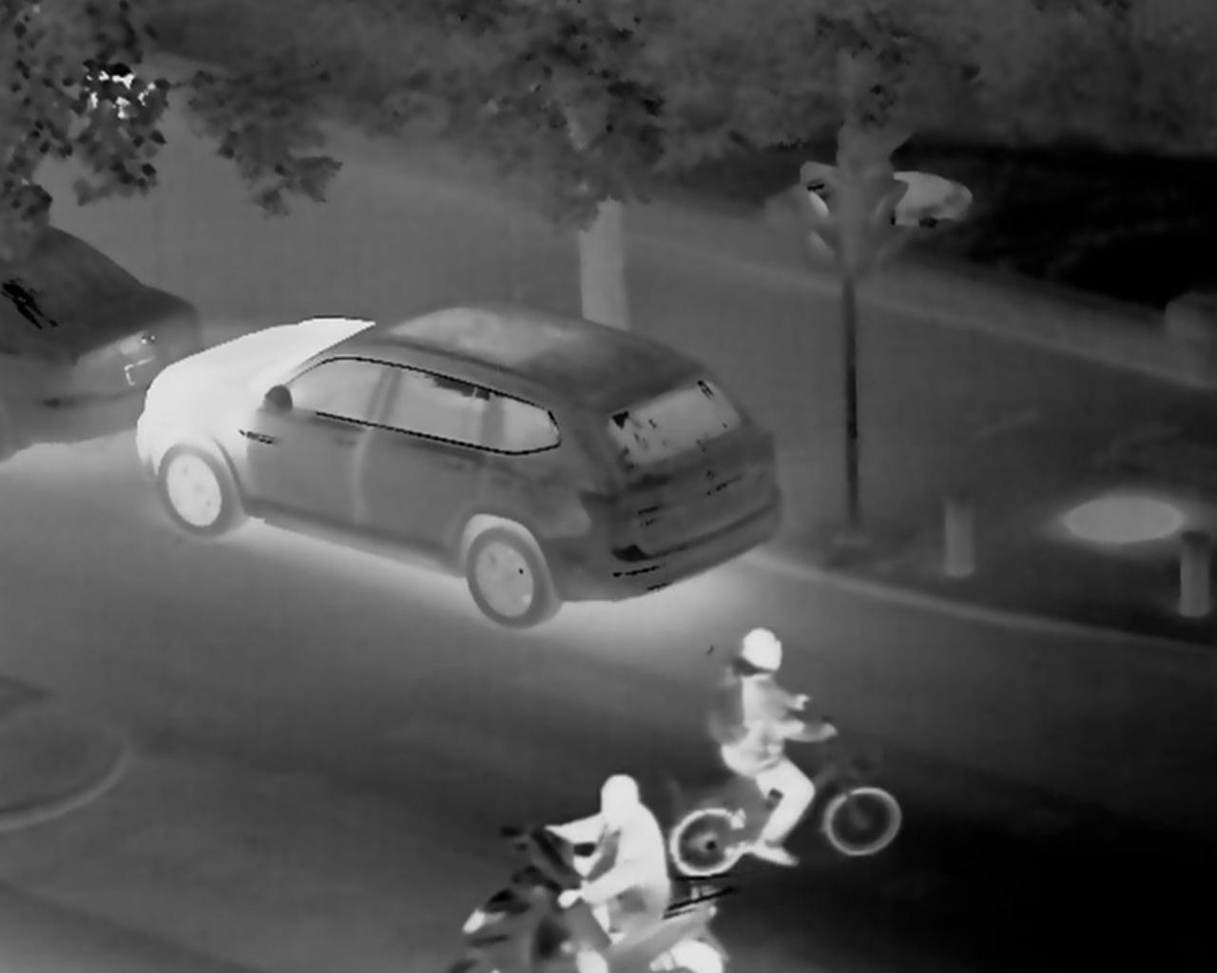person: (714, 613, 847, 869), (536, 749, 677, 973)
